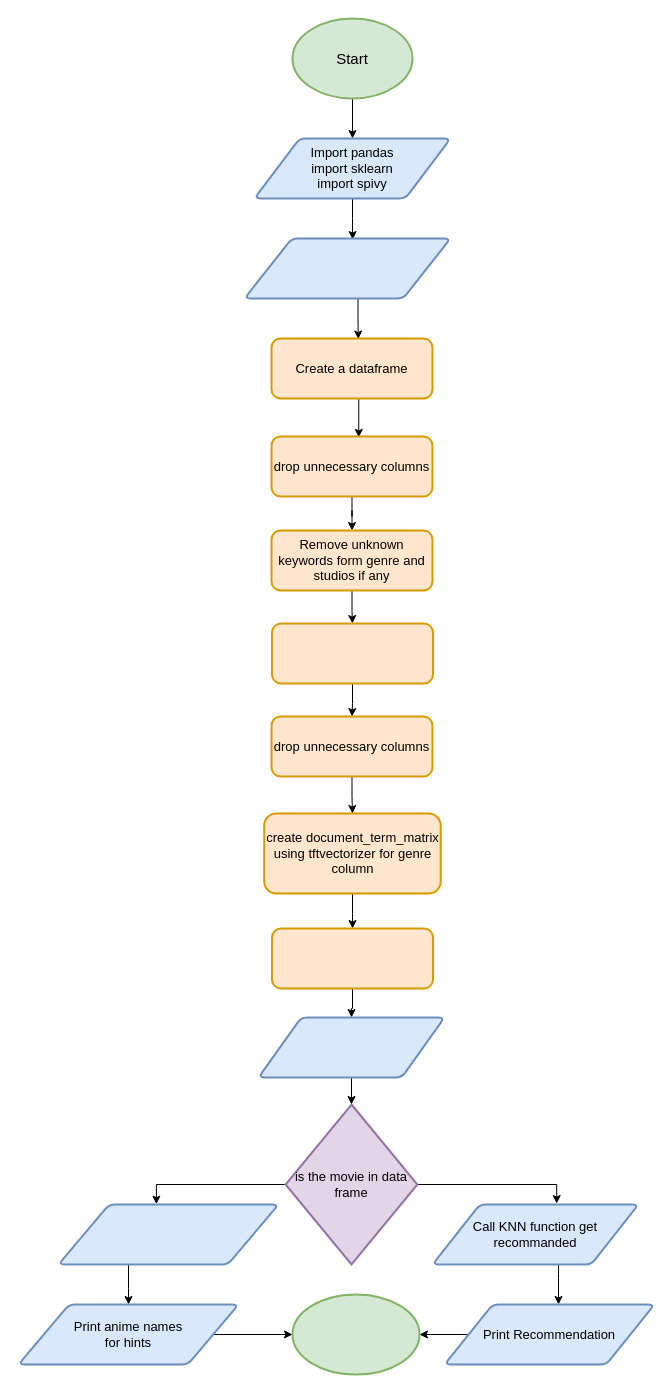
The diagram is 672 pixels wide and 1392 high, and some of its shapes have lost their labels. The centre of each missing label's shape, as x and y in pixels:
"create function for KNN algorithm" belongs at [352,958].
"End" belongs at [355,1334].
"enter movie name" belongs at [351,1047].
"Print name not found" belongs at [168,1234].
"Read csv file" belongs at [347,268].
"replace unknown with 0 in score and episode" belongs at [352,653].
